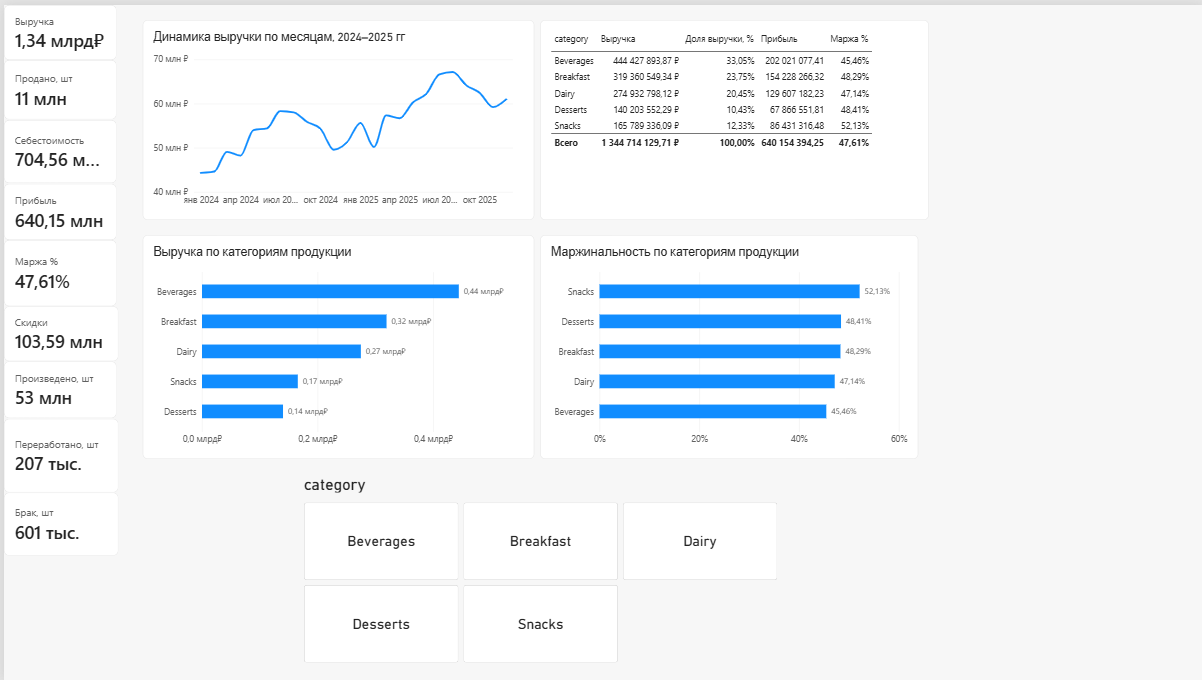

What the dashboard file says about the page in this screenshot:
{"tool":"powerbi","page":{"name":"Продажи и финансовые показатели","canvas":[1920,1080],"ordinal":0},"visuals":[{"type":"cardVisual","fields":{"Data":["fact_sales.Выручка"]},"box":[0,0,180,88],"z":0},{"type":"cardVisual","fields":{"Data":["fact_sales.Продано, шт"]},"box":[0,88.3,180,95],"z":1000},{"type":"cardVisual","fields":{"Data":["fact_sales.Себестоимость"]},"box":[0,183.3,180,101.7],"z":2000},{"type":"cardVisual","fields":{"Data":["fact_sales.Прибыль"]},"box":[0,285,180,90],"z":3000},{"type":"cardVisual","fields":{"Data":["fact_sales.Маржа %"]},"box":[0,375,180,106.7],"z":4000},{"type":"cardVisual","fields":{"Data":["fact_sales.Скидки"]},"box":[0,481.7,183,88],"z":5000},{"type":"cardVisual","fields":{"Data":["fact_production.Произведено, шт"]},"box":[0,570,180,91.7],"z":6000},{"type":"cardVisual","fields":{"Data":["fact_production.Брак, шт"]},"box":[0,780,183.3,101.7],"z":7000},{"type":"cardVisual","fields":{"Data":["fact_production.Переработано, шт"]},"box":[0,661.7,183.3,118.3],"z":8000},{"type":"lineChart","title":"Динамика выручки по месяцам, 2024–2025 гг","fields":{"Category":["dim_date.date.Изменение.Иерархия дат.Год","dim_date.date.Изменение.Иерархия дат.Месяц"],"Y":["fact_sales.Выручка"]},"box":[221.3,24,626.7,320],"z":9000},{"type":"clusteredBarChart","title":"Выручка по категориям продукции","fields":{"Category":["dim_product.category"],"Y":["fact_sales.Выручка"]},"box":[221.3,367.3,626.7,358.3],"z":10000},{"type":"tableEx","fields":{"Values":["dim_product.category","fact_sales.Выручка","fact_sales.Доля выручки, %","fact_sales.Прибыль","fact_sales.Маржа %"]},"box":[857.8,25,621.7,320],"z":11000},{"type":"clusteredBarChart","title":"Маржинальность по категориям продукции","fields":{"Category":["dim_product.category"],"Y":["fact_sales.Маржа %"]},"box":[857.8,367.4,605,358.3],"z":12000},{"type":"advancedSlicerVisual","fields":{"Values":["dim_product.category"]},"box":[479.6,752.8,758.2,300.4],"z":13000}]}

Visuals, with their boxes in screenshot pixels (x1, y1, x2, y2), scaled from the page's 1920x1080 canvas onto the 1202x680 screenshot:
cardVisual - fact_sales.Выручка: 0,0,113,55
cardVisual - fact_sales.Продано, шт: 0,56,113,115
cardVisual - fact_sales.Себестоимость: 0,115,113,179
cardVisual - fact_sales.Прибыль: 0,179,113,236
cardVisual - fact_sales.Маржа %: 0,236,113,303
cardVisual - fact_sales.Скидки: 0,303,115,359
cardVisual - fact_production.Произведено, шт: 0,359,113,417
cardVisual - fact_production.Брак, шт: 0,491,115,555
cardVisual - fact_production.Переработано, шт: 0,417,115,491
"Динамика выручки по месяцам, 2024–2025 гг" lineChart: 139,15,531,217
"Выручка по категориям продукции" clusteredBarChart: 139,231,531,457
tableEx - dim_product.category x fact_sales.Выручка: 537,16,926,217
"Маржинальность по категориям продукции" clusteredBarChart: 537,231,916,457
advancedSlicerVisual - dim_product.category: 300,474,775,663
